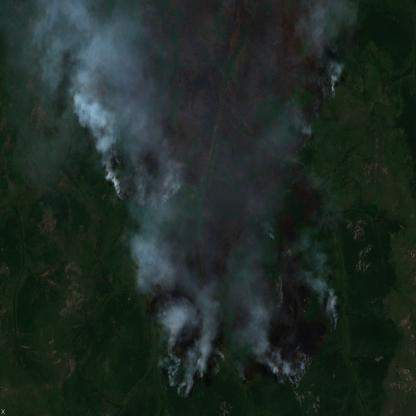fire: (151, 283, 342, 402), (96, 143, 178, 219), (306, 54, 340, 122)
